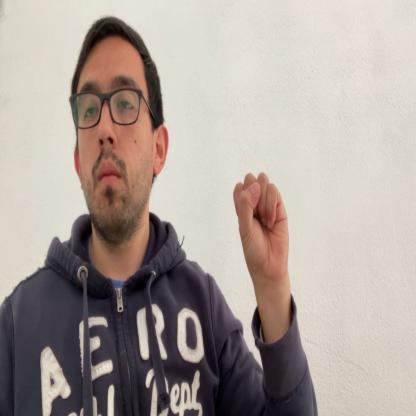S: (232, 173, 289, 273)
